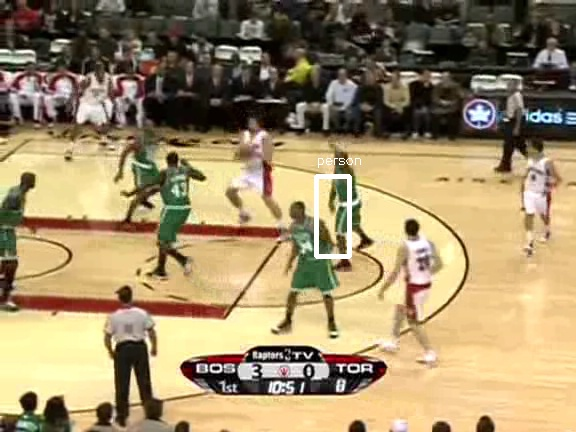person: (331, 161, 365, 242), (330, 161, 364, 242), (332, 161, 366, 242), (331, 160, 365, 241), (331, 162, 365, 243)
target_negative: (296, 161, 501, 323), (310, 187, 405, 385), (428, 37, 480, 239), (342, 334, 550, 356), (230, 417, 276, 418), (541, 428, 556, 430)
